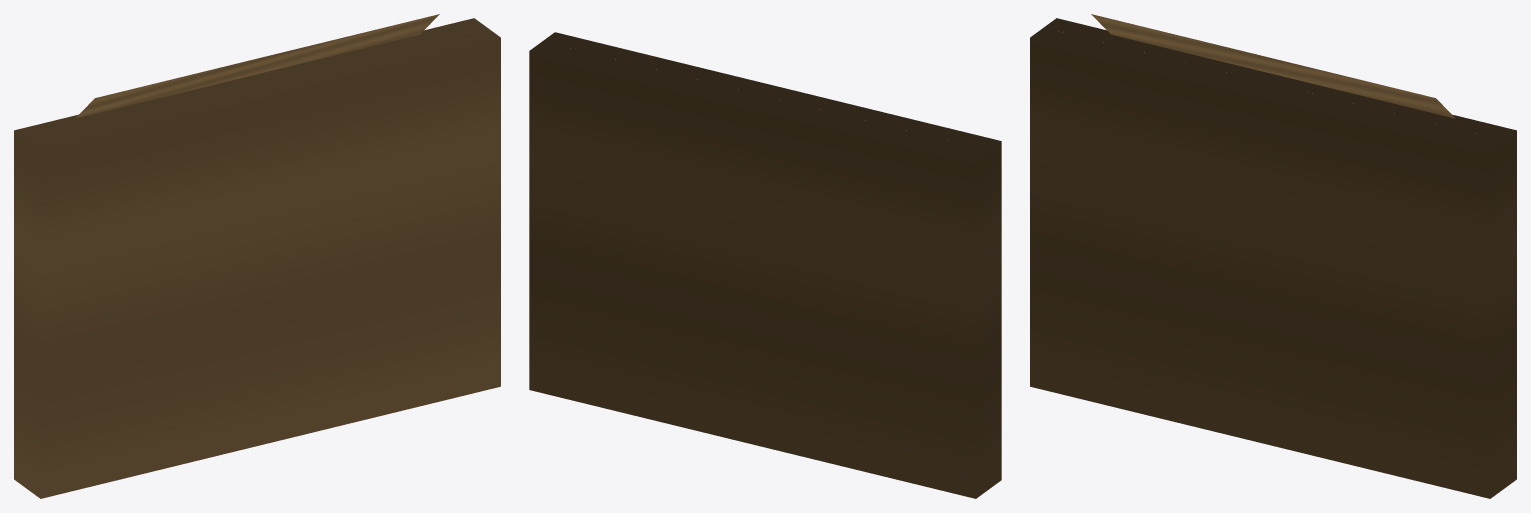
The model's file is env_wall_adobe_4m.glb.
3 renders of one model, left to right at view 1: azimuth 30°, elevation 25°; view 2: azimuth 150°, elevation 25°; view 3: azimuth 330°, elevation 25°, orthographic. The views are drawn at different scales.
Visible parts, largest first — view 1: env_wall_adobe_4m; view 2: env_wall_adobe_4m; view 3: env_wall_adobe_4m.
Boxes of the visible parts, x1=… form: env_wall_adobe_4m: x1=14, y1=14, x2=500, y2=498; env_wall_adobe_4m: x1=529, y1=32, x2=1001, y2=498; env_wall_adobe_4m: x1=1030, y1=14, x2=1516, y2=498.
Bounding box in the file's own units: 4 × 3.19 × 0.4.
1 material, 1 textured.
